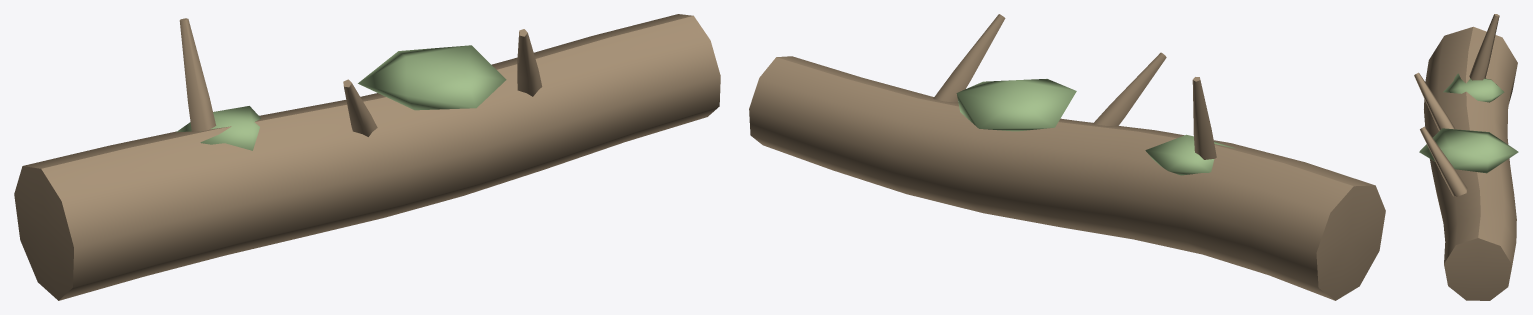
File: stamm_1.glb
3 views of the same model, side by side, from view 1: azimuth 30°, elevation 25°; view 2: azimuth 150°, elevation 25°; view 3: azimuth 270°, elevation 25° (orthographic). The views are drawn at different scales.
Parts seen in each view (by area): view 1: G_stamm_1; view 2: G_stamm_1; view 3: G_stamm_1.
Part boxes in pixels (box(x1,y1,x2,y2)): G_stamm_1: box(14, 14, 720, 300); G_stamm_1: box(749, 14, 1385, 300); G_stamm_1: box(1414, 14, 1518, 300).
Bounding box in the file's own units: 3.24 × 1.04 × 0.6933.
